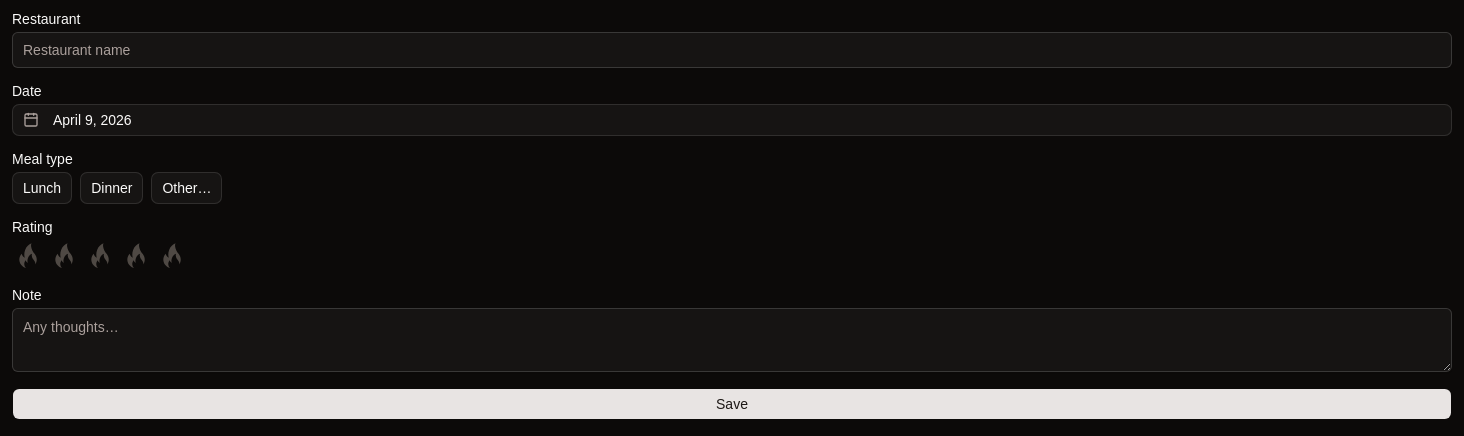
Test: VisitForm › shows autocomplete suggestions when restaurantSuggestions are provided
Type "Trat" into the field labelled "Restaurant" at (732, 50), box [12,32,1452,68]
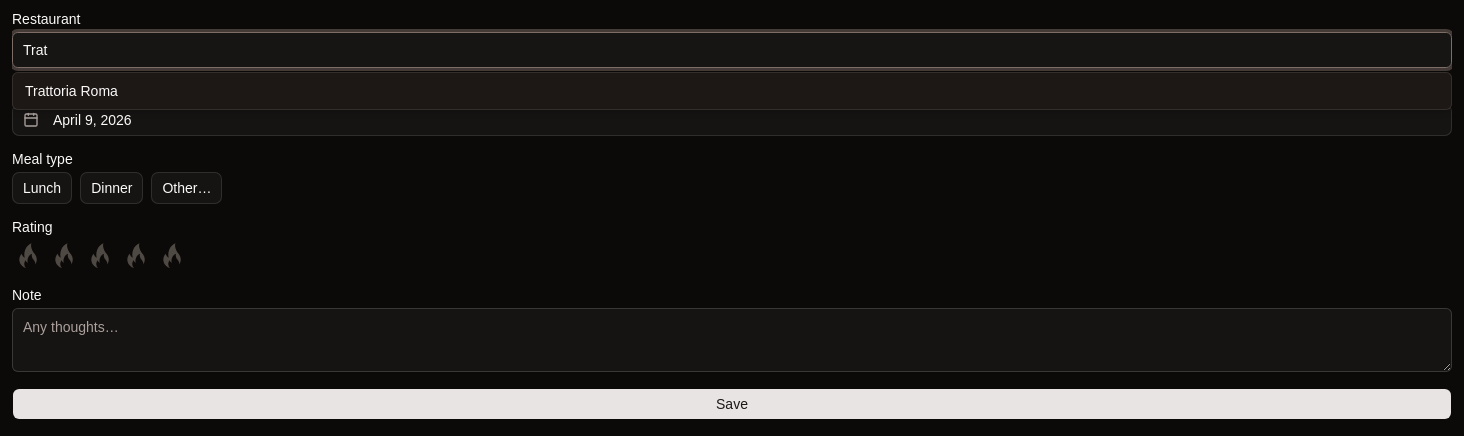
Expected: the button "Trattoria Roma" is shown, [13,73,1451,109]
